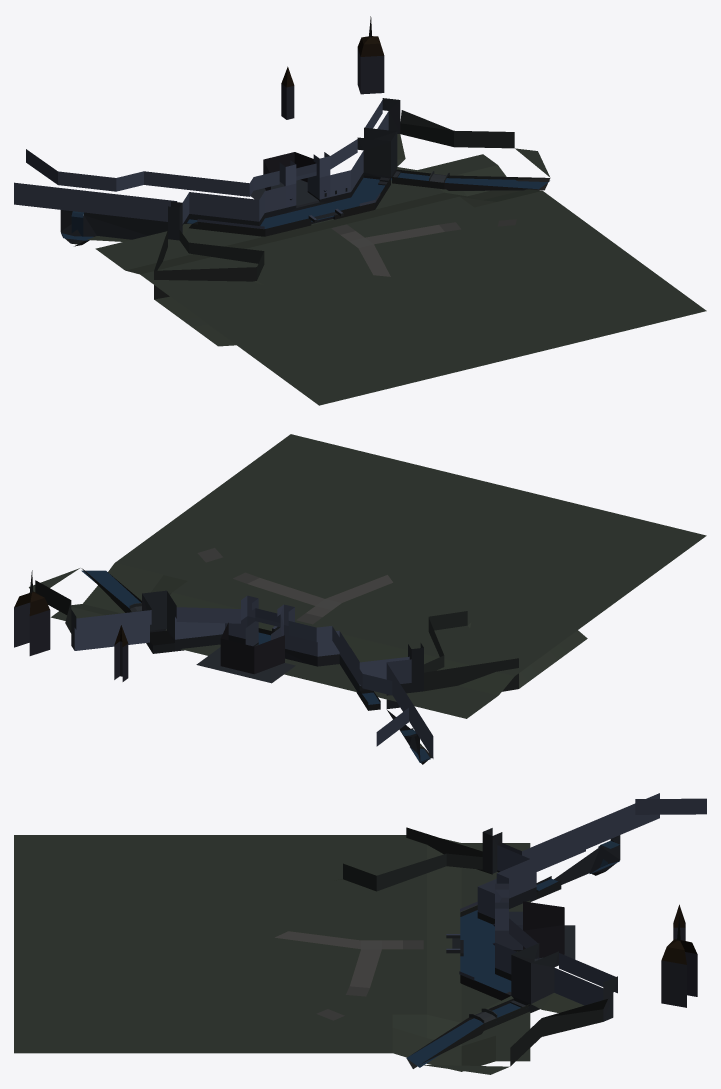
Rendered from hyrulefield-nightmare.obj.
3 renders of one model, top to bottom at view 1: azimuth 30°, elevation 25°; view 2: azimuth 150°, elevation 25°; view 3: azimuth 270°, elevation 25°, orthographic. The views are drawn at different scales.
Parts seen in each view (by area): view 1: spot00; view 2: spot00; view 3: spot00.
Part boxes in pixels (x1=…): spot00: x1=14, y1=16, x2=706, y2=405; spot00: x1=14, y1=434, x2=706, y2=764; spot00: x1=14, y1=793, x2=706, y2=1074.
Size of the model in its own units: 6895 by 1827 by 7964.
